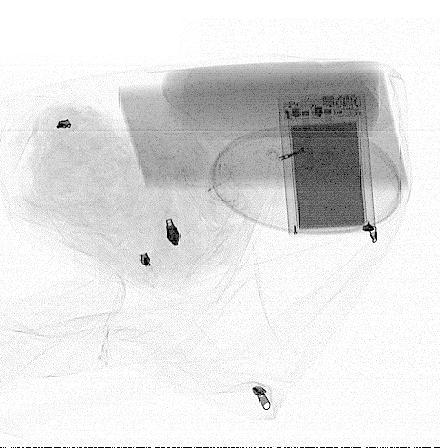Powerbank: (278, 93, 376, 236)
